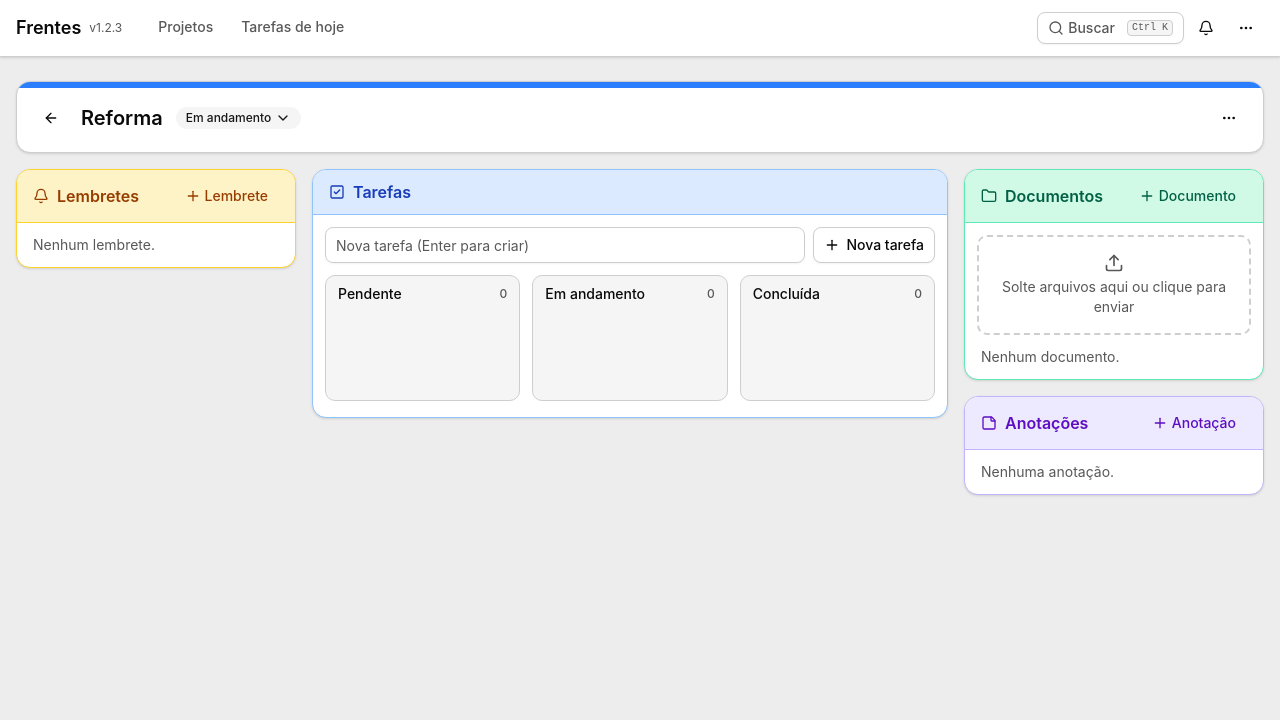
Modal da tarefa: campos por tipo (01 §4.6) › repetida exige a primeira data e mostra o editor com a frase de RN-35
The width and height of the screenshot is (1280, 720).
Click the button "Nova tarefa" at (874, 245), box [813,227,935,263]
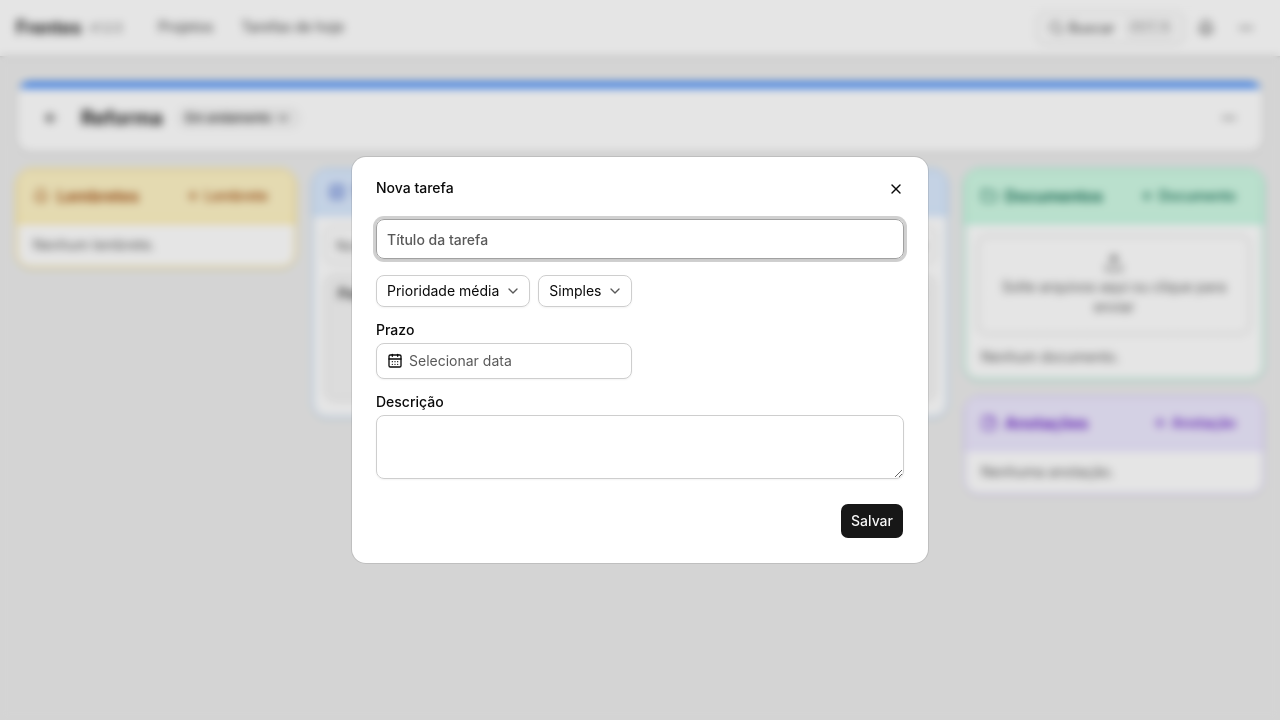
Type "Regar" into the field labelled "Título" at (640, 239), box [376,219,904,259]
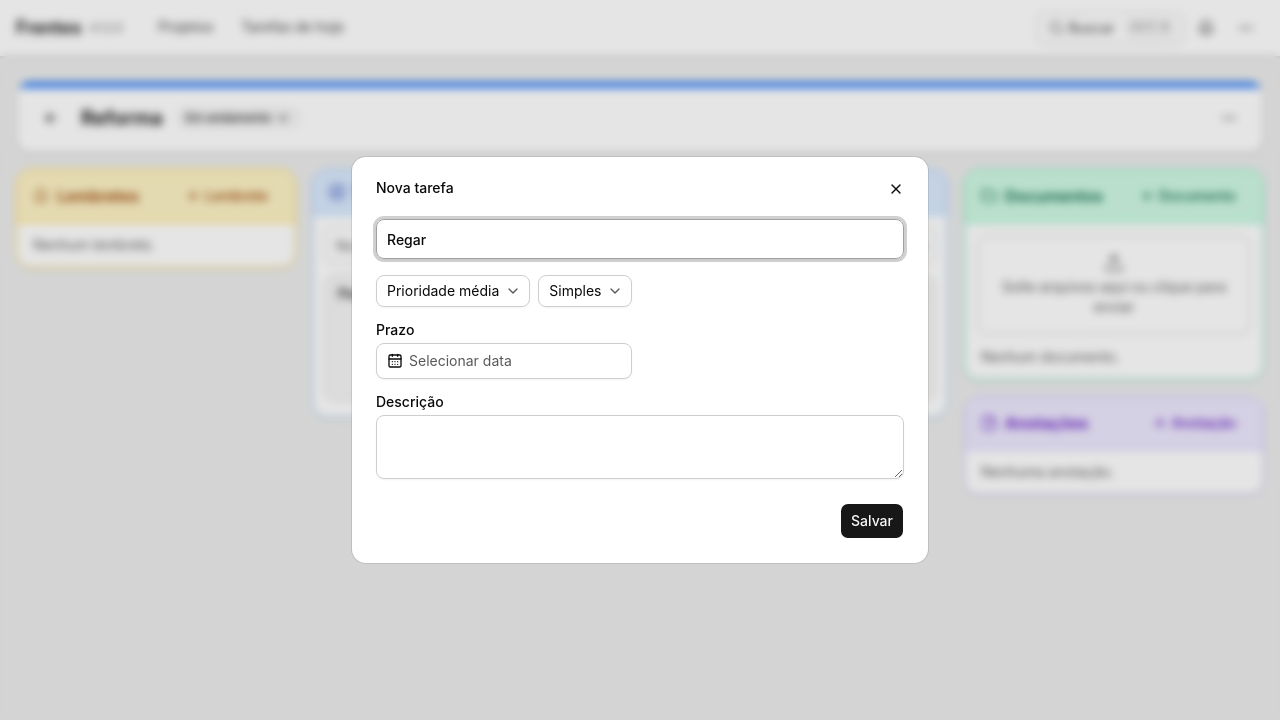
Click the dropdown named "Tipo" at (585, 291), box [538,275,632,307]
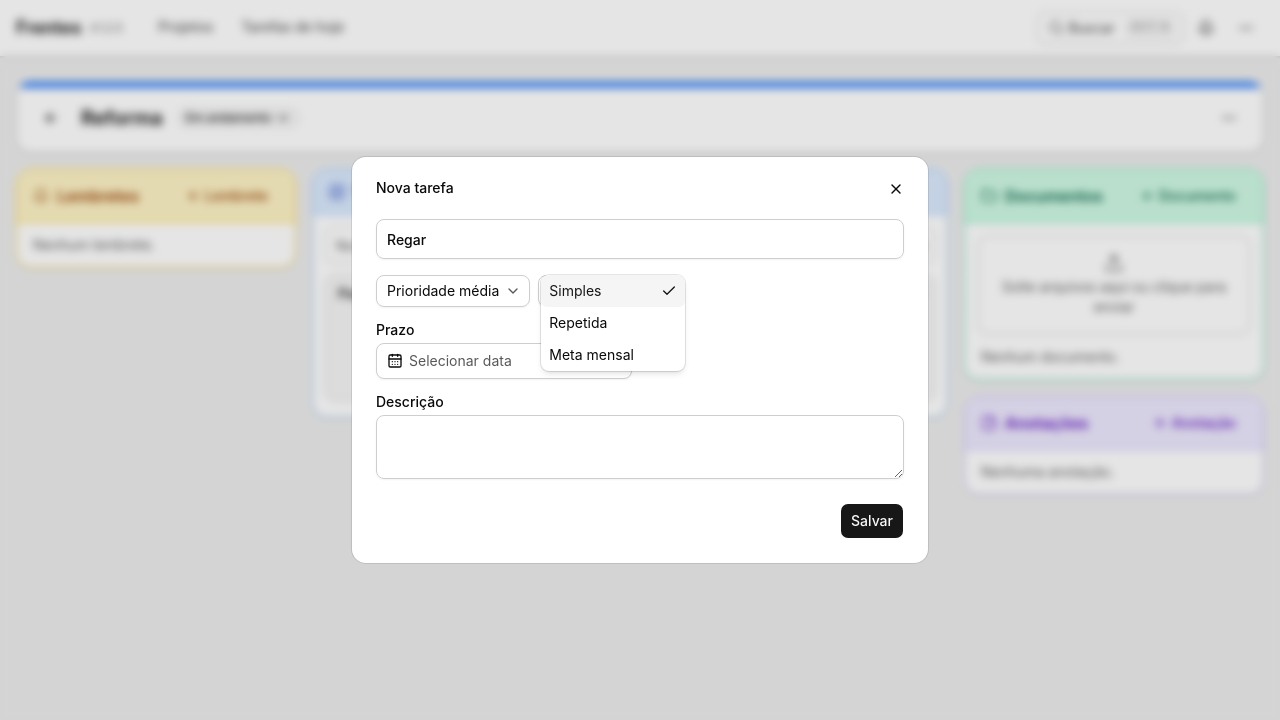
Click the option "Repetida" at (578, 322), box [549,314,607,331]
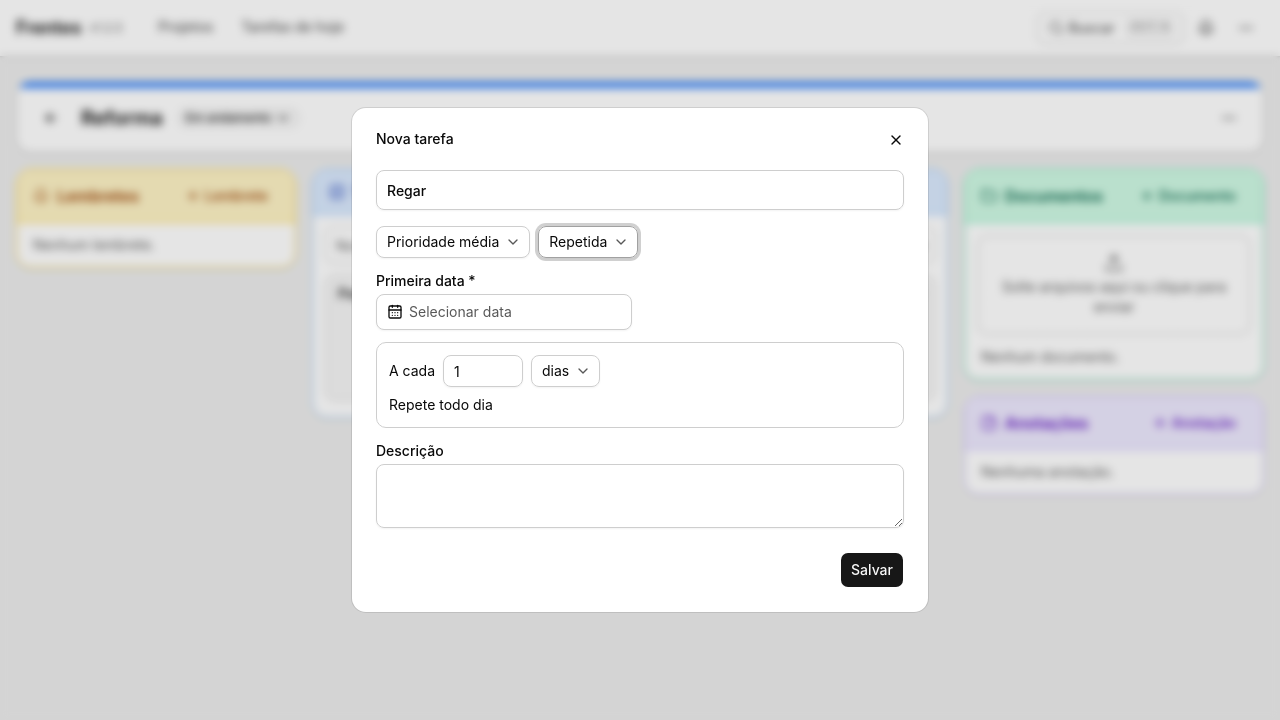
Result: the button named "Primeira data *" is shown at [376,294,632,330]
Result: the text "Repete todo dia" is shown at [389,396,493,413]
Click the button "Salvar" at (872, 570), box [840,552,904,588]
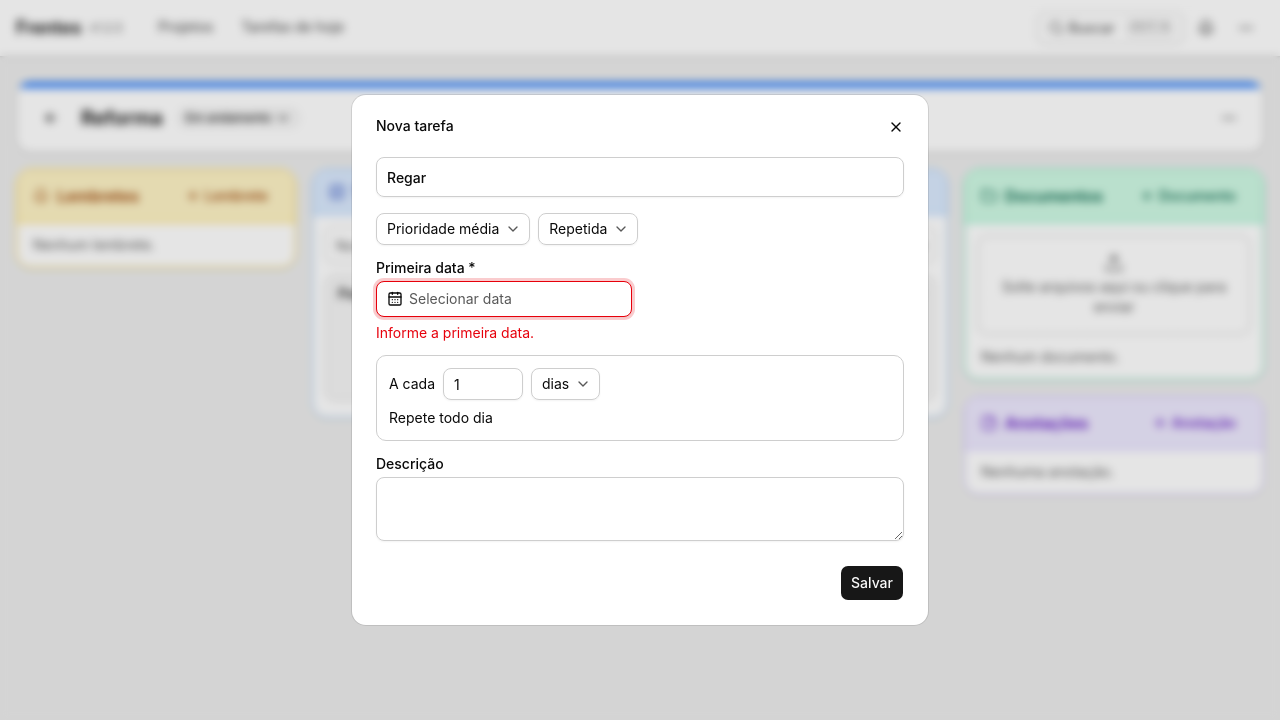
Result: the text "Informe a primeira data." is shown at [376,324,534,341]
